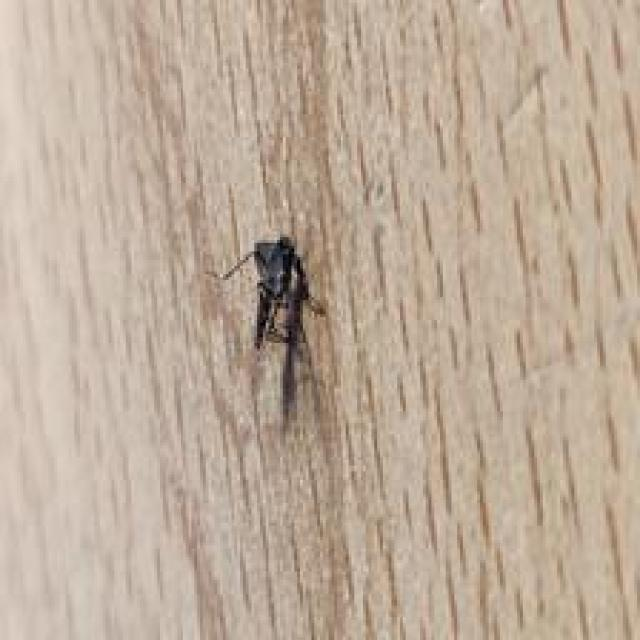Aedes albopictus: (213, 233, 330, 427)
